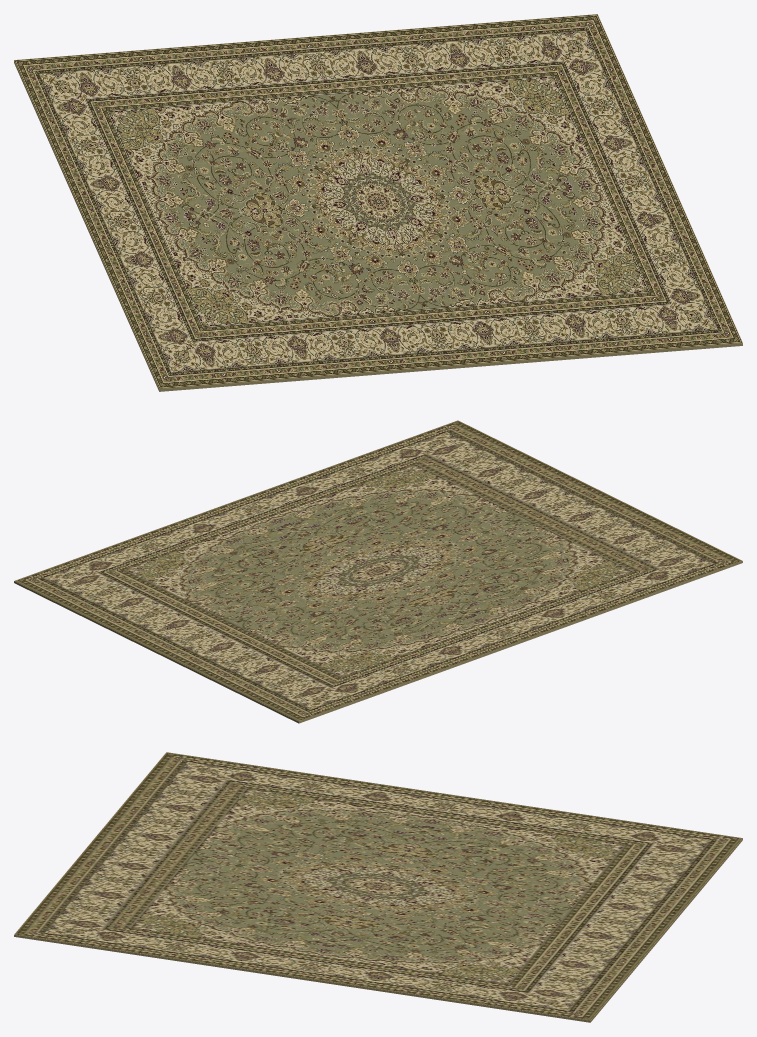
The model's file is carpet_1.glb.
3 views of the same model, one above another, from view 1: azimuth 30°, elevation 25°; view 2: azimuth 150°, elevation 25°; view 3: azimuth 270°, elevation 25° (orthographic). The views are drawn at different scales.
Parts seen in each view (by area): view 1: Plane.010; view 2: Plane.010; view 3: Plane.010.
Boxes of the visible parts, bbox=[...] form: Plane.010: bbox=[14, 14, 742, 391]; Plane.010: bbox=[14, 420, 742, 723]; Plane.010: bbox=[14, 752, 742, 1022].
Size of the model in its own units: 22.59 by 0.0814 by 25.91.
1 material, 1 textured.
